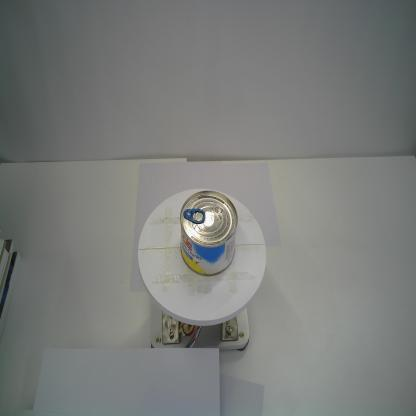Canned Food: (180, 189, 239, 276)
